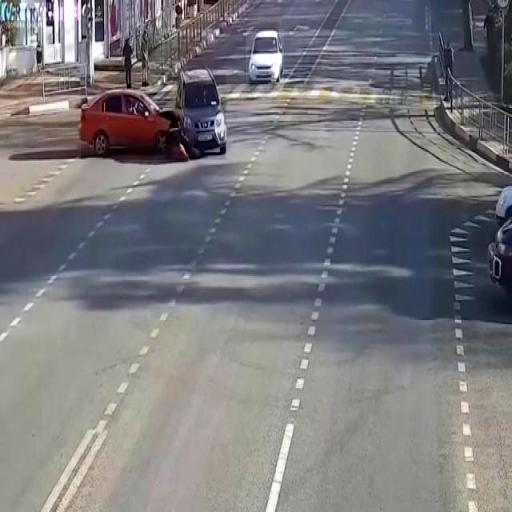小汽车: (246, 29, 284, 83)
小汽车撞小汽车: (81, 74, 226, 160)
